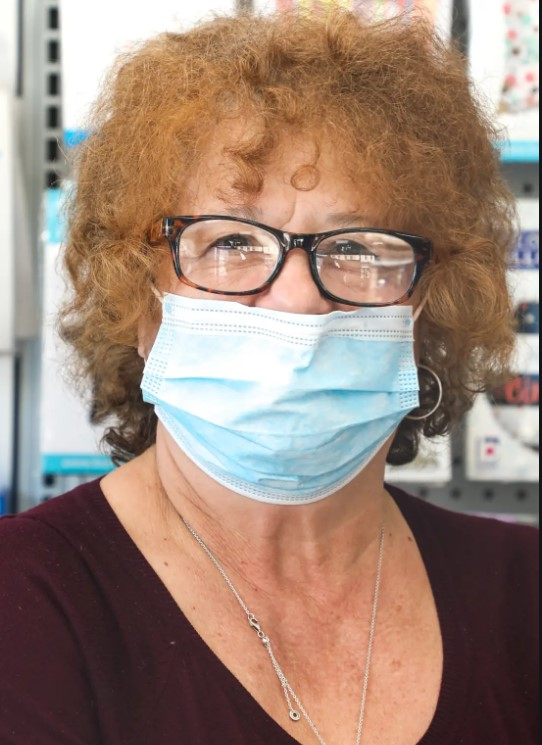face_with_mask: (107, 41, 471, 506)
